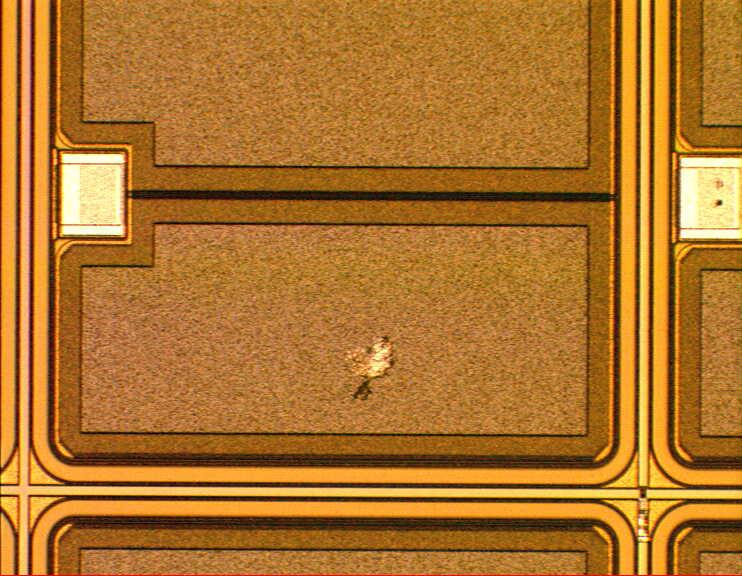SCRATCH: (323, 328, 403, 410)
